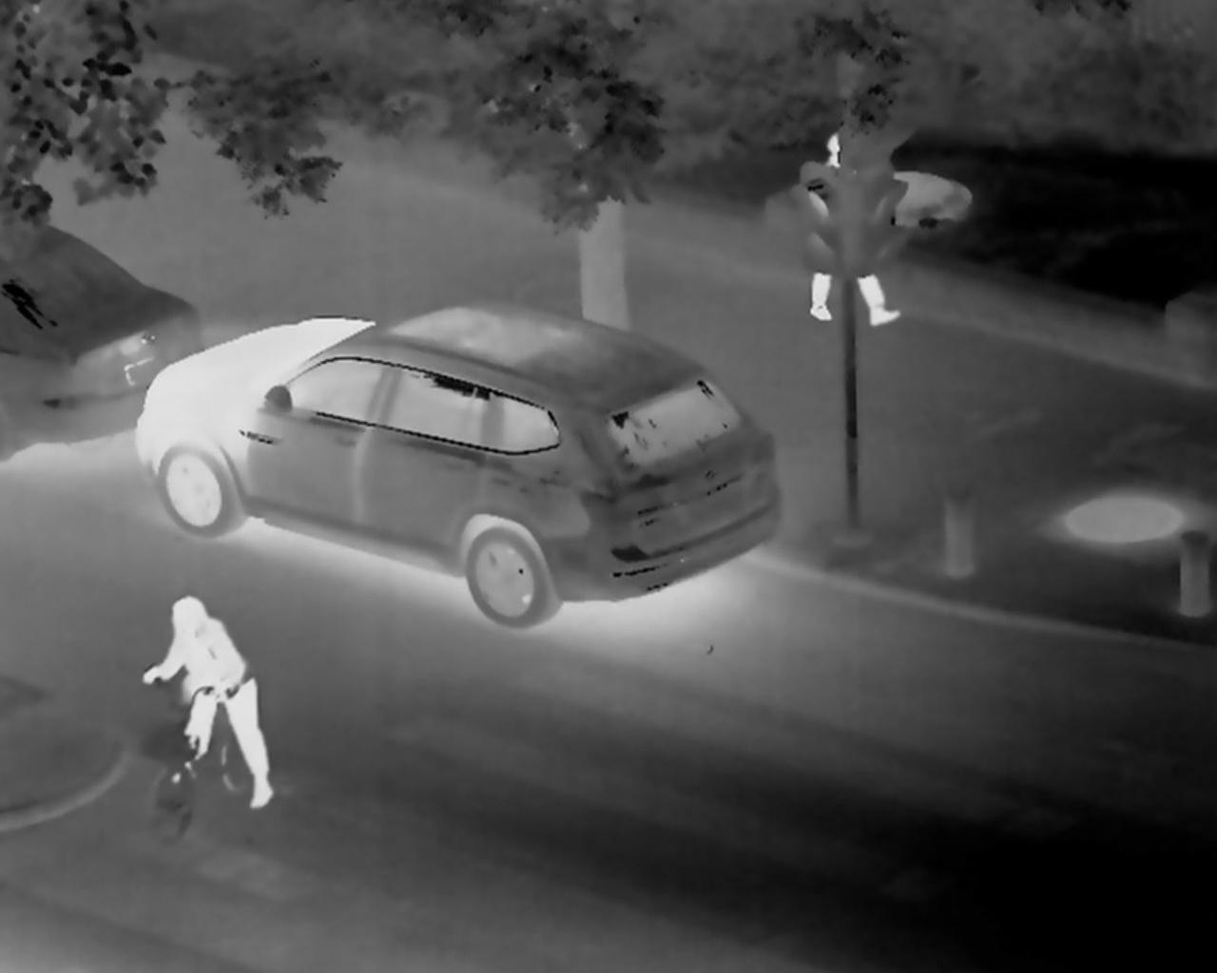person: (130, 591, 276, 813), (803, 126, 899, 329)
